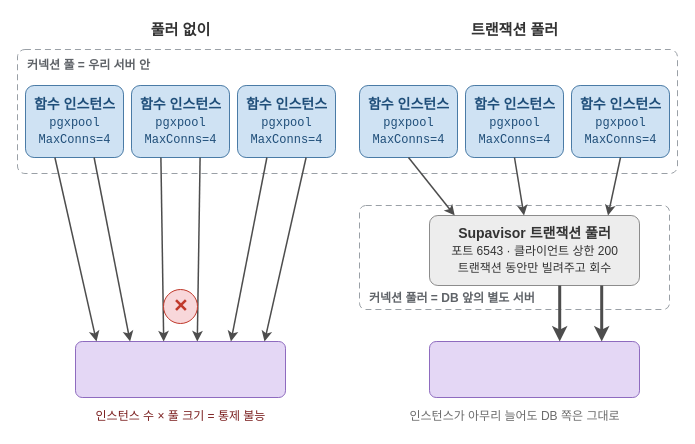
Some shapes in this 695 by 444 pixel diagram are drawn without their labels. Each missing label, with the centre of its shape:
"PostgreSQL 실제 커넥션은 소수로 유지" goes at pixel 534 369.
"PostgreSQL 직접 연결 상한 60" goes at pixel 180 369.
